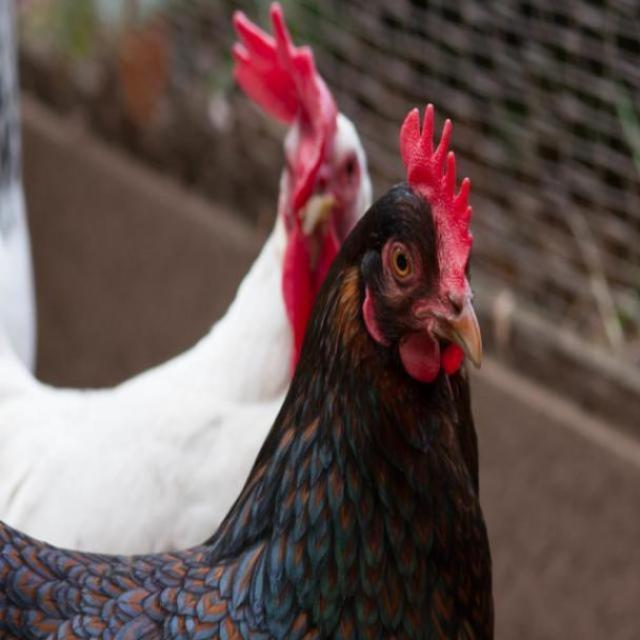Chicken: (0, 0, 375, 555)
